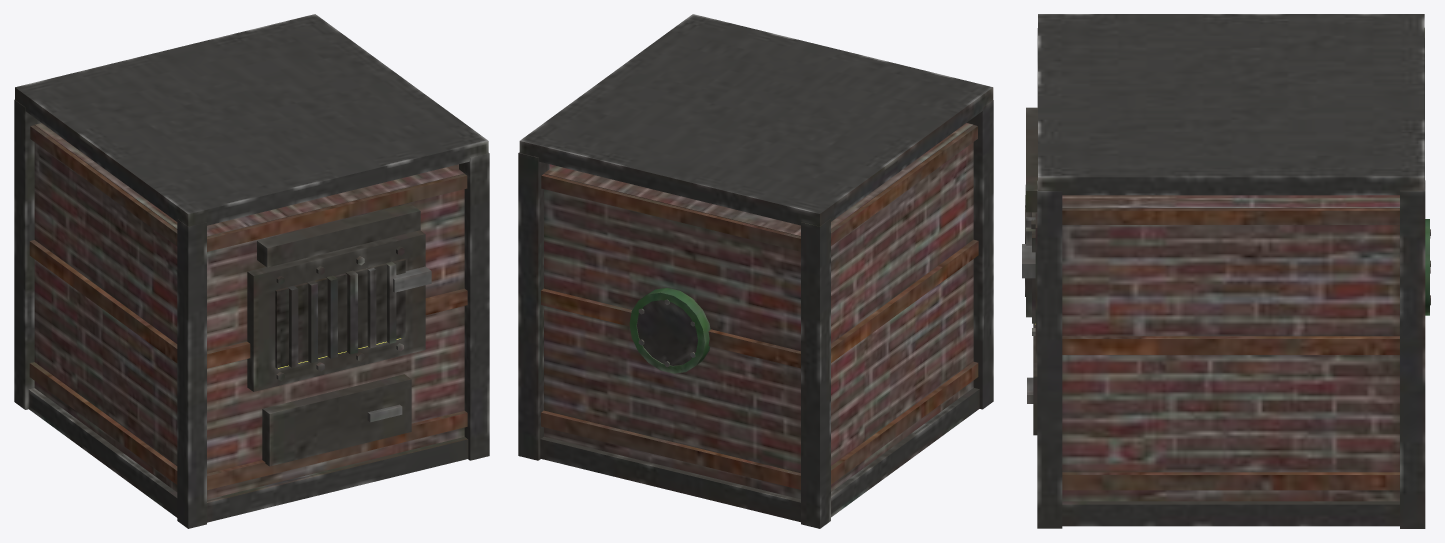
File: feBoilerFirebox.glb
3 views of the same model, side by side, from view 1: azimuth 30°, elevation 25°; view 2: azimuth 150°, elevation 25°; view 3: azimuth 270°, elevation 25° (orthographic). The views are drawn at different scales.
Parts seen in each view (by area): view 1: feBoilerFirebox_Base; view 2: feBoilerFirebox_Base; view 3: feBoilerFirebox_Base.
Part boxes in pixels (box(x1,y1,x2,y2)): feBoilerFirebox_Base: box(14, 14, 489, 528); feBoilerFirebox_Base: box(518, 14, 993, 528); feBoilerFirebox_Base: box(1022, 14, 1430, 528).
Bounding box in the file's own units: 0.9836 × 0.9824 × 1.04.
2 materials, 1 textured.
